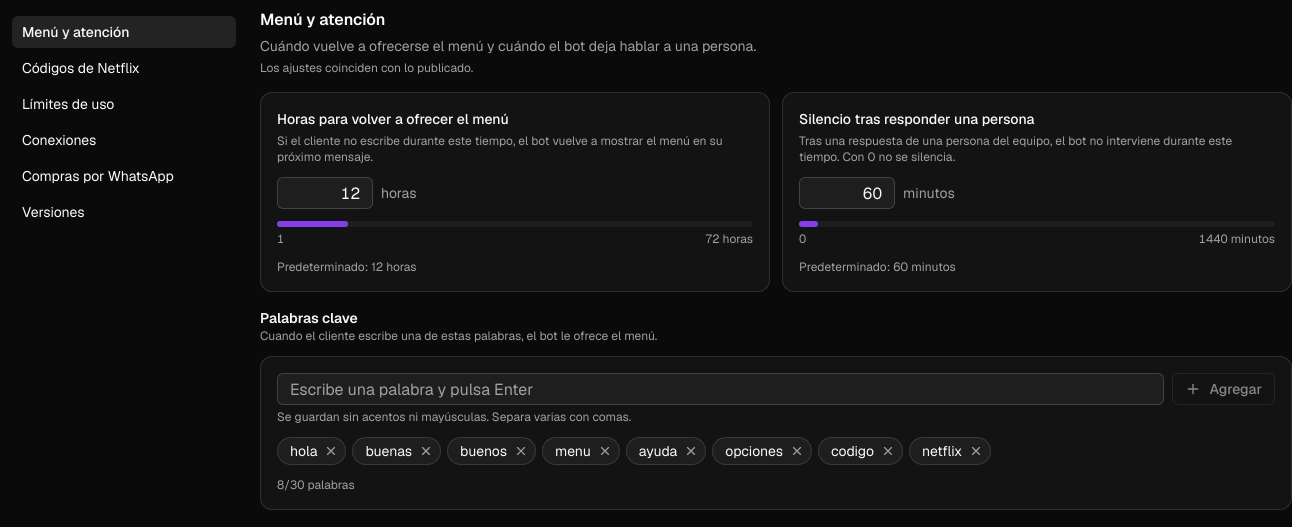
Test case: ajustes › dice el rango en vez de ignorar un número inválido y no lo aplica
This screenshot has width=1292, height=527.
Replace the text in the field labelled "Horas para volver a ofrecer el menú" with "999" at (325, 193), box 277,177 -> 373,209
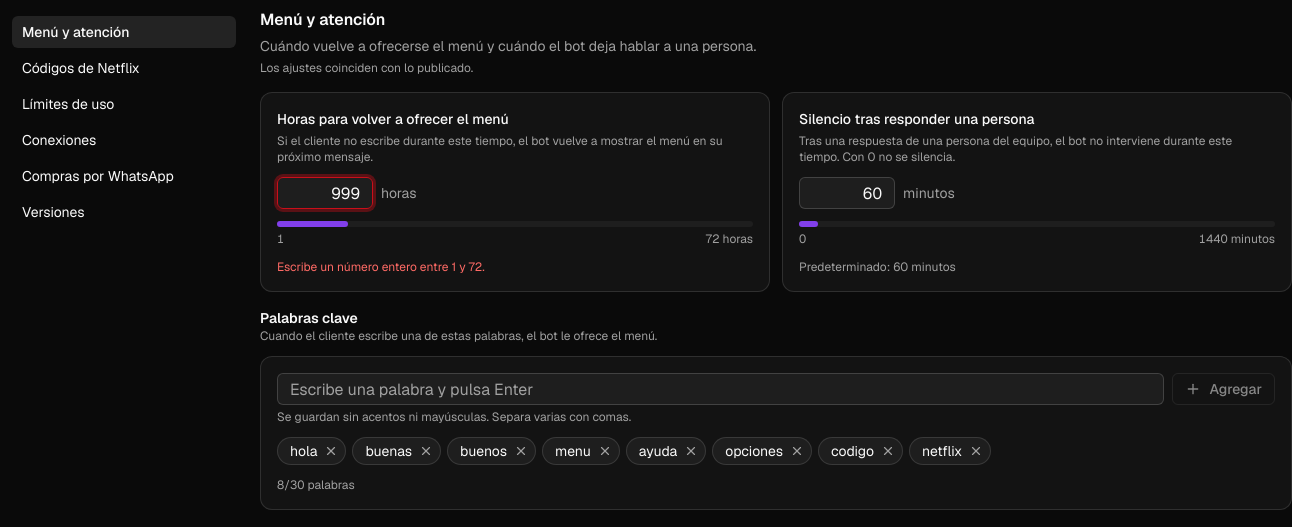
Expected: the message "Escribe un número entero entre 1 y 72." is shown, 277,259 -> 485,275
Press Escape
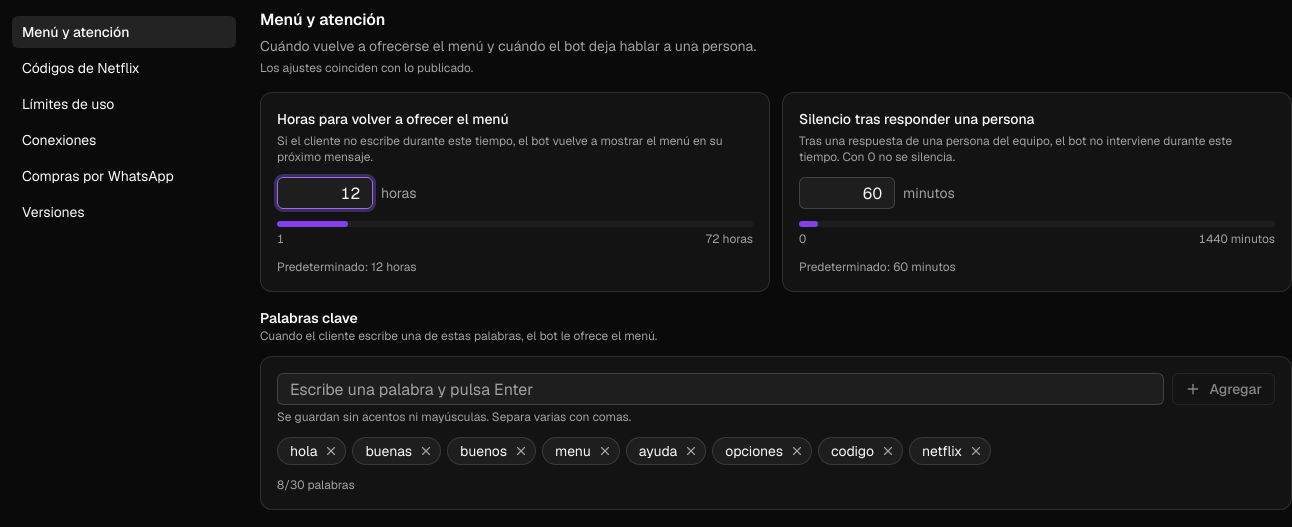
Expected: the text "Los ajustes coinciden con lo publicado." is shown, 260,60 -> 473,76
Expected: the field labelled "Horas para volver a ofrecer el menú" holds "12", 277,177 -> 373,209
